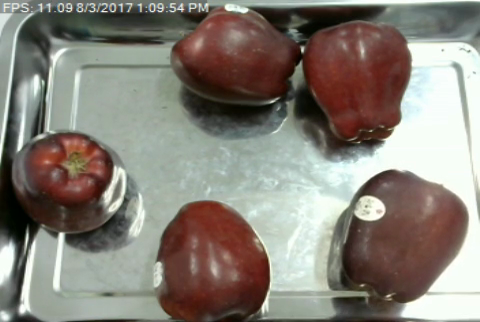Apple: (339, 164, 466, 309), (301, 10, 418, 148), (9, 124, 135, 241), (155, 196, 271, 322), (168, 6, 302, 108)
